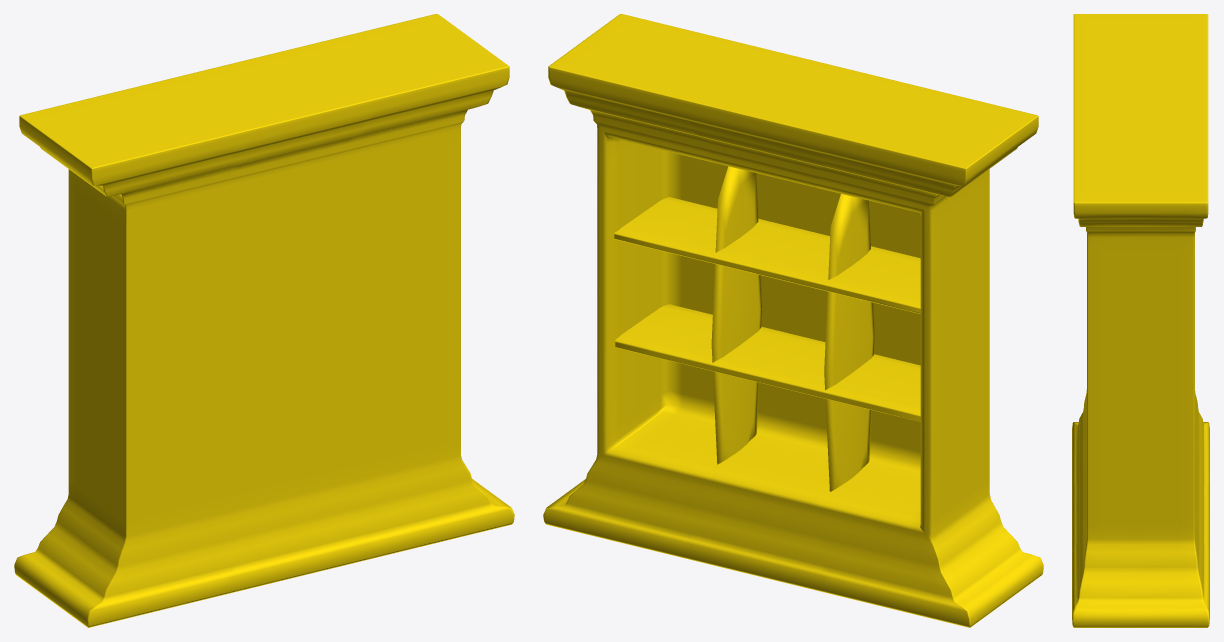
The model's file is Bookshelf.fbx.
The picture shows the model from 3 angles, left to right: view 1: azimuth 30°, elevation 25°; view 2: azimuth 150°, elevation 25°; view 3: azimuth 270°, elevation 25°; orthographic projection. The views are drawn at different scales.
Visible parts, largest first — view 1: pCube70; view 2: pCube70, pCube71, pCube72, pCube73, pCube74; view 3: pCube70.
Part boxes in pixels (<box>): pCube70: <box>14,14,514,627</box>; pCube70: <box>543,14,1043,627</box>; pCube71: <box>614,197,920,313</box>; pCube72: <box>615,304,920,421</box>; pCube73: <box>824,194,874,491</box>; pCube74: <box>711,166,762,464</box>; pCube70: <box>1072,14,1209,627</box>.
Size of the model in its own units: 11.62 by 11.92 by 3.51.
